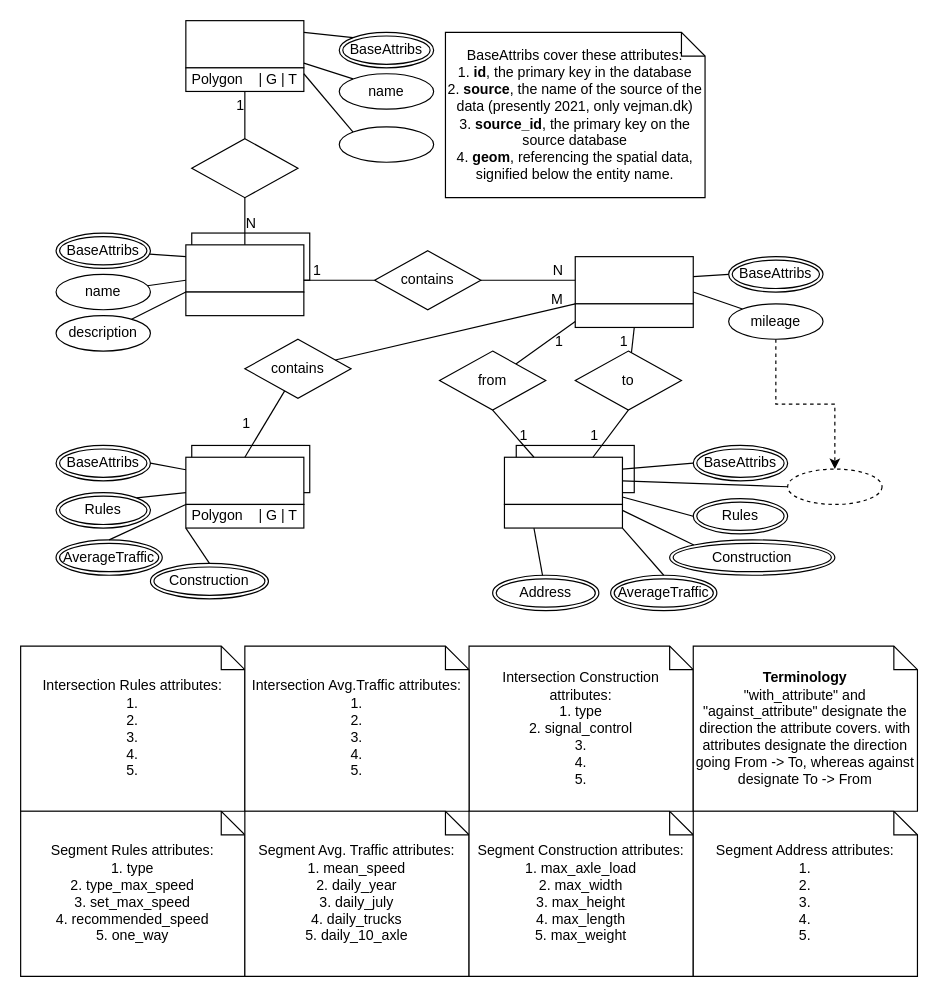
Some shapes in this 938 by 997 pixel diagram are drawn without their labels. The shapes that lost their labels are listed below. From the top down, each one's centre as x and y in pixels, then its label:
At pixel 244 43: "municipality".
At pixel 386 144: "country".
At pixel 244 167: "manages".
At pixel 244 268: "road".
At pixel 633 279: "mileage_post".
At pixel 244 303: "MultiLine | G | T".
At pixel 633 315: "Point | G |".
At pixel 244 480: "intersection".
At pixel 562 480: "segment".
At pixel 834 486: "length".
At pixel 562 515: "Line | G | T".
